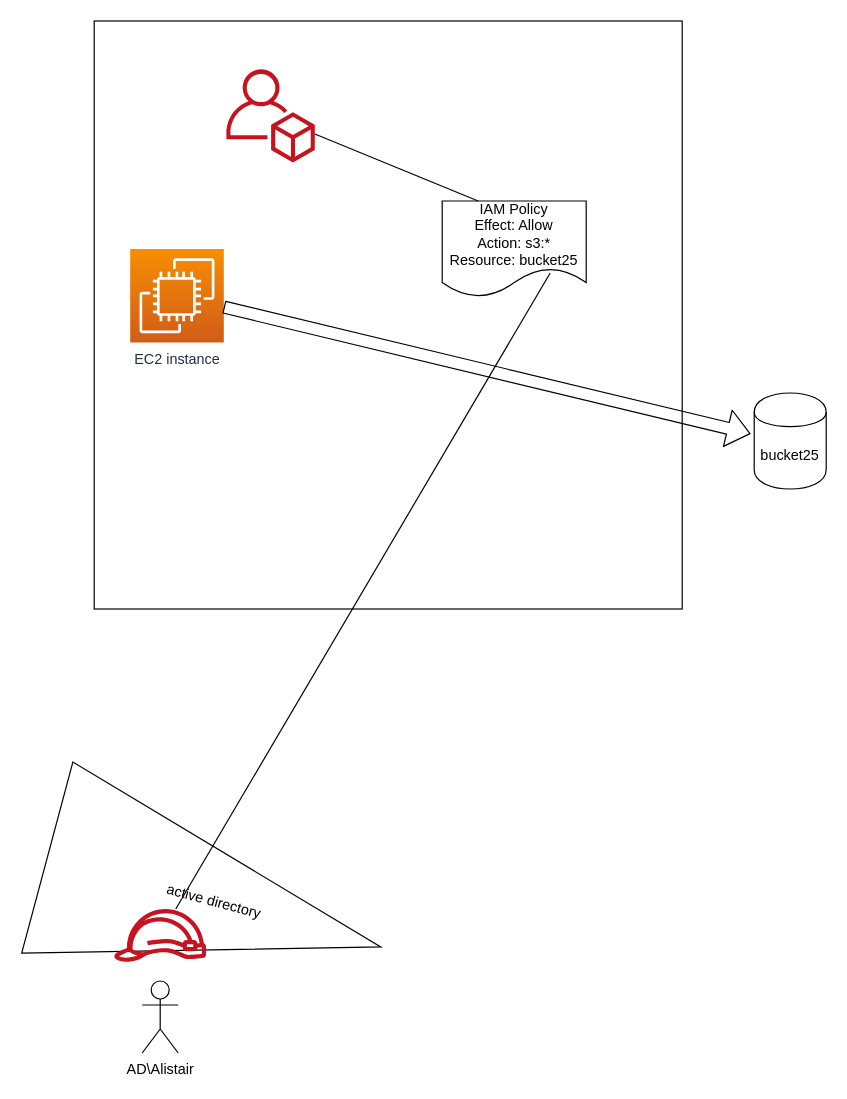
This 847x1099 diagram has some shape labels left out. The shapes that lost their labels are listed below. From the top down, each one's box as (x1, y1, x2, y2) in pixels, then its label:
(226, 68, 314, 162): IAM user: Bob
(113, 908, 206, 961): IAM Role
